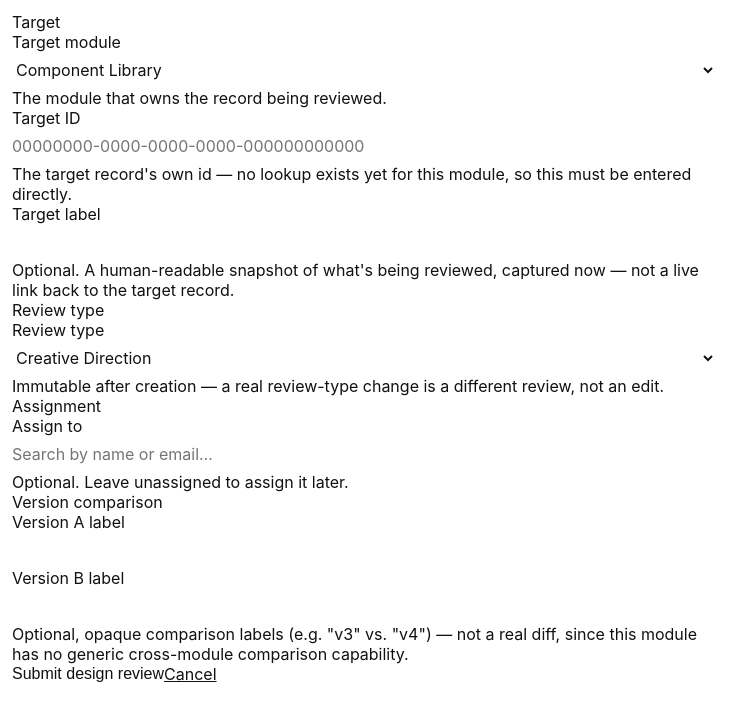
Test: DesignReviewForm › shows a generic error when the request itself fails (network error)
This screenshot has width=733, height=719.
In the field labelled "Target ID": (364, 146) [12,128,716,164], type "22222222-2222-2222-2222-222222222222"
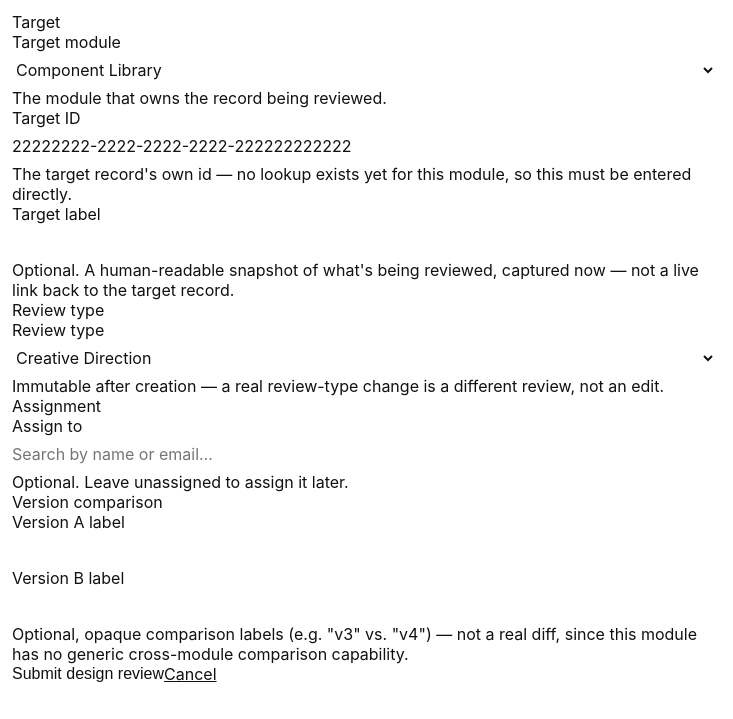
Click the button "Submit design review": (88, 674) [12,665,164,683]
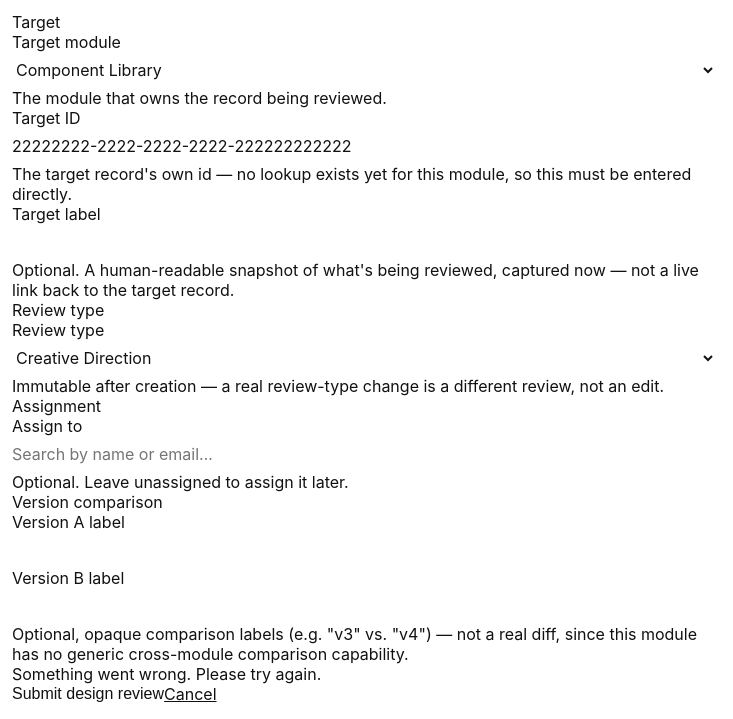
Now the message reads "Something went wrong. Please try again.", box [12,664,321,684]
